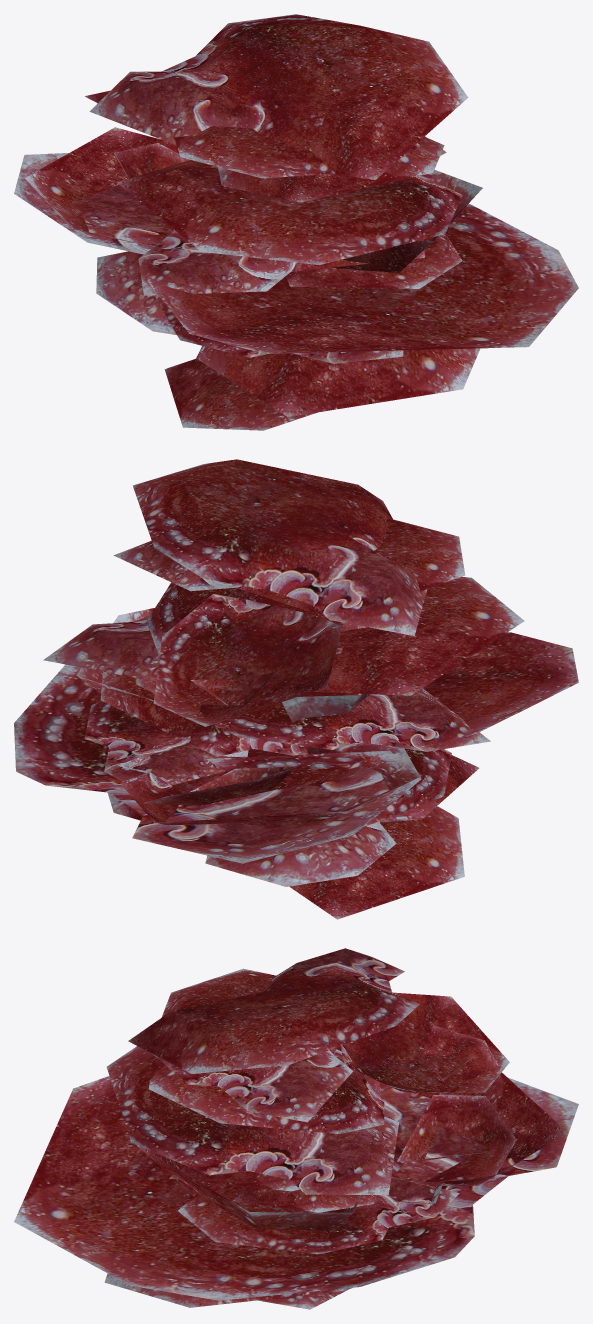
Rendered from SM_CoralineE.fbx.
3 renders of one model, top to bottom at view 1: azimuth 30°, elevation 25°; view 2: azimuth 150°, elevation 25°; view 3: azimuth 270°, elevation 25°, orthographic. The views are drawn at different scales.
Parts seen in each view (by area): view 1: SM_CorallineB_LOD1; view 2: SM_CorallineB_LOD1; view 3: SM_CorallineB_LOD1.
Boxes of the visible parts, <box> form: SM_CorallineB_LOD1: <box>14,14,578,430</box>; SM_CorallineB_LOD1: <box>14,459,578,919</box>; SM_CorallineB_LOD1: <box>14,948,578,1309</box>.
Size of the model in its own units: 146 by 109 by 183.
